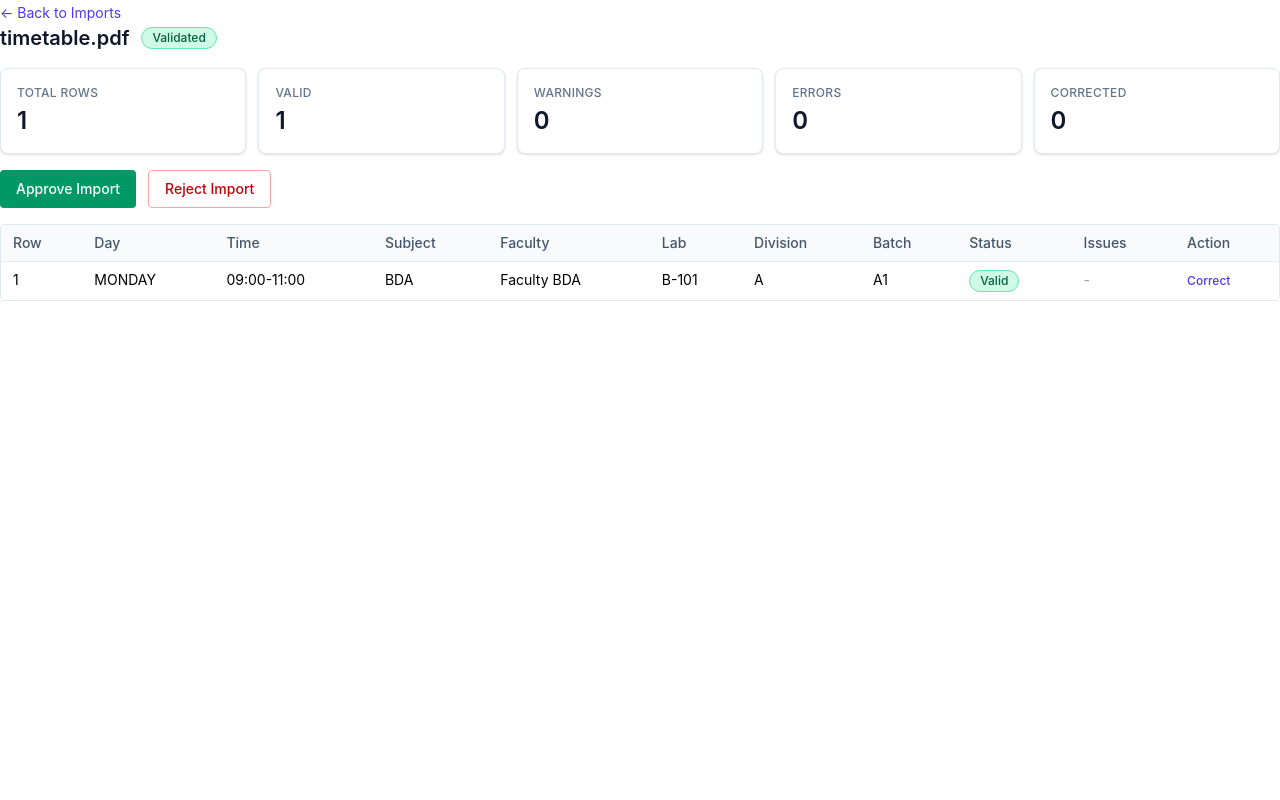
Test: ImportReviewPage › shows the explicit approve-does-not-publish boundary language
Click the button "Approve Import" at (68, 189), box [0, 170, 136, 208]
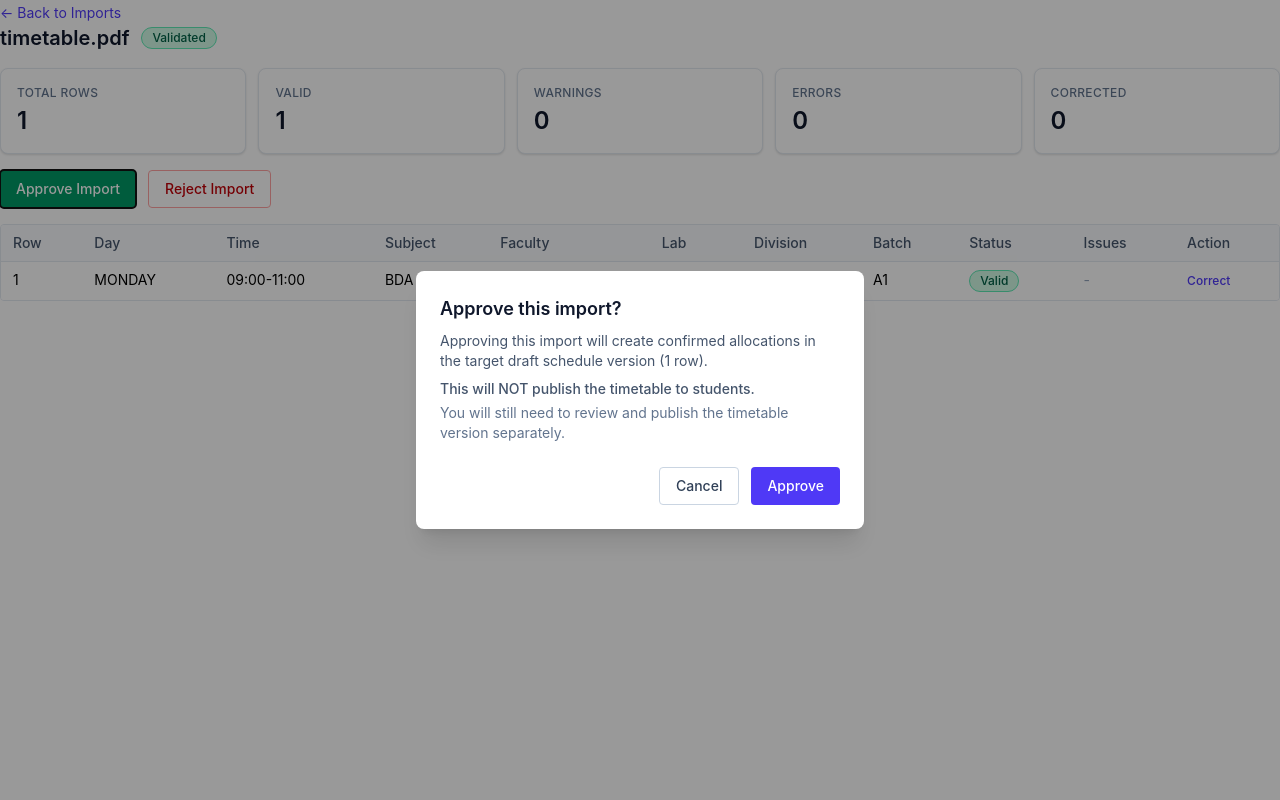
expect the text "This will NOT publish the timetable to students." is shown: met, box [440, 380, 755, 397]
expect the text "will create confirmed allocations" is shown: met, box [440, 332, 816, 369]
